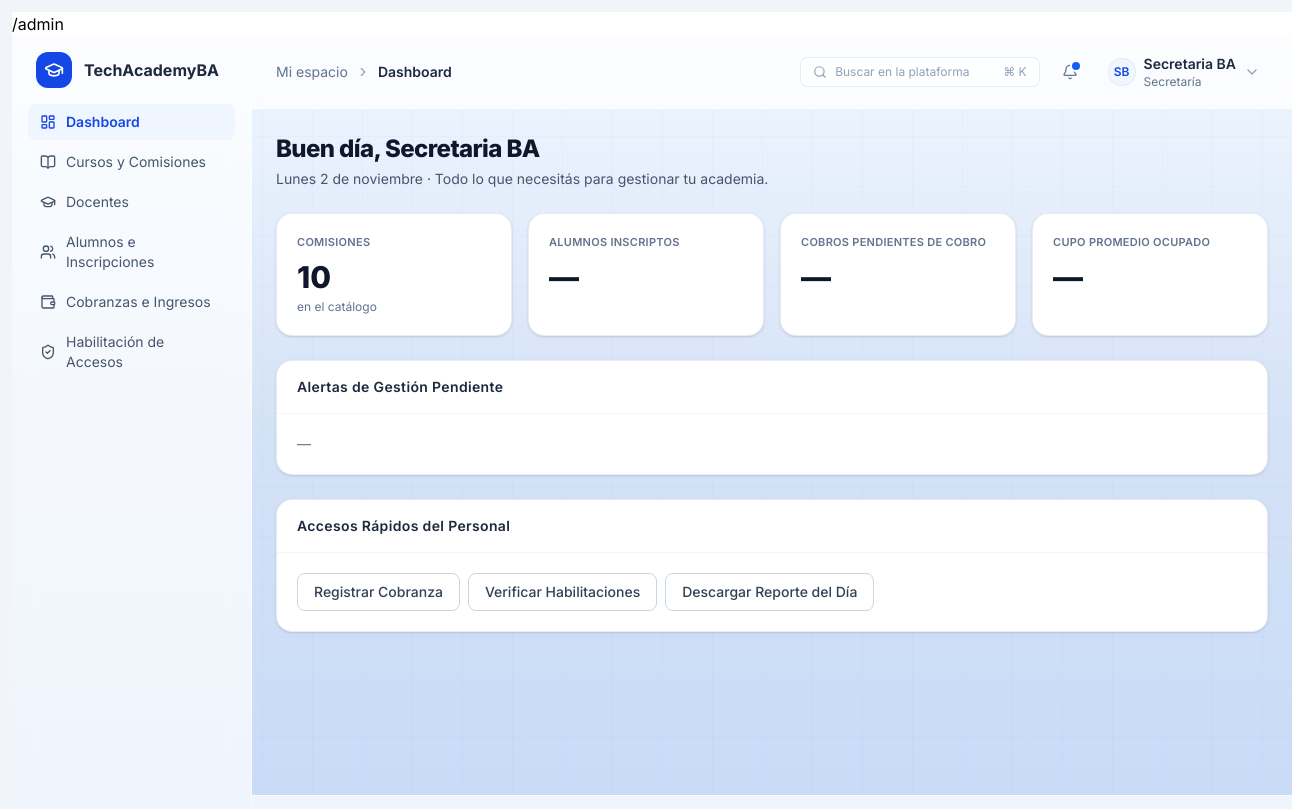
Scenario: redirección por rol › vuelve al login al cerrar sesión y descarta el token
Click the button "SB Secretaria BA Secretaría" at [1184, 72], box [1100,48,1268,96]
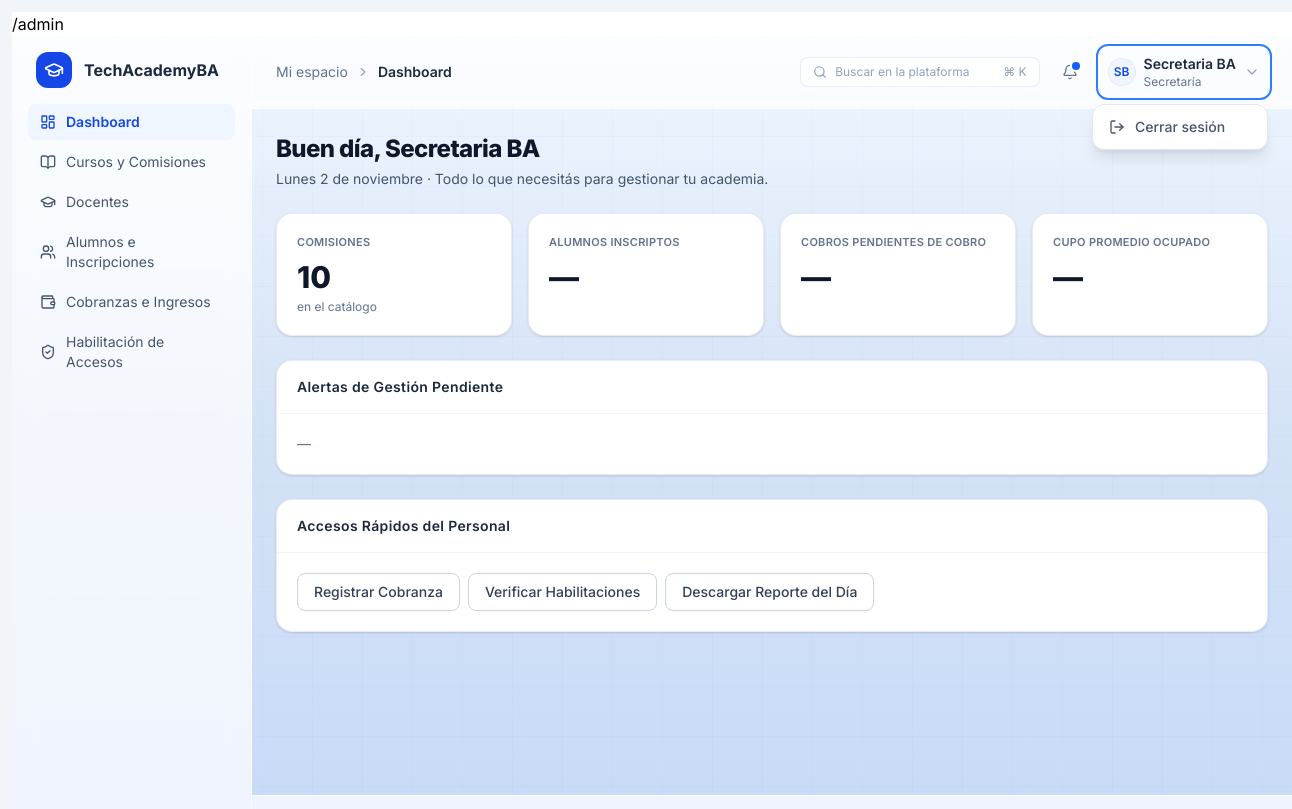
Click the menu item "Cerrar sesión" at [1180, 127], box [1093,109,1267,145]
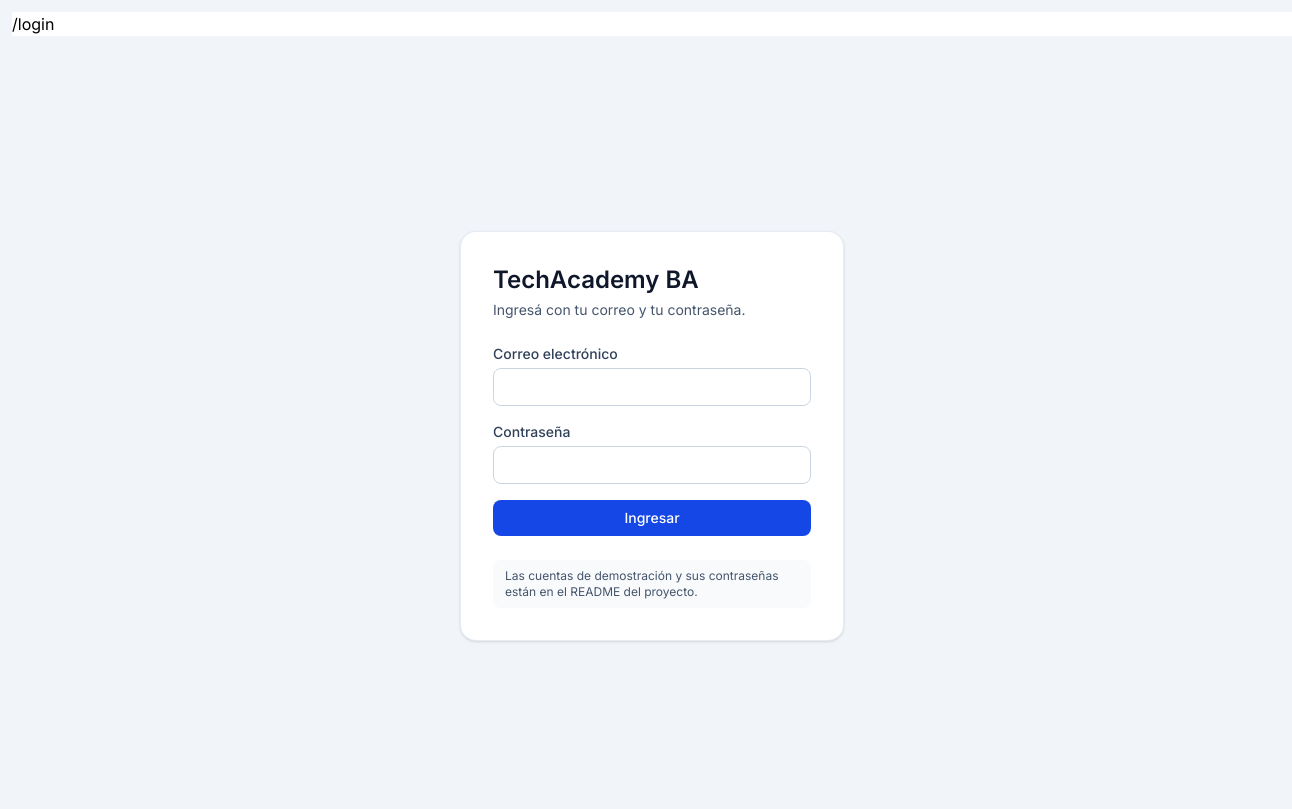
Expected: the field labelled "Correo electrónico" is shown, [493,368,811,406]
Expected: the text with test id "current-path" reads "/login", [12,14,54,34]
